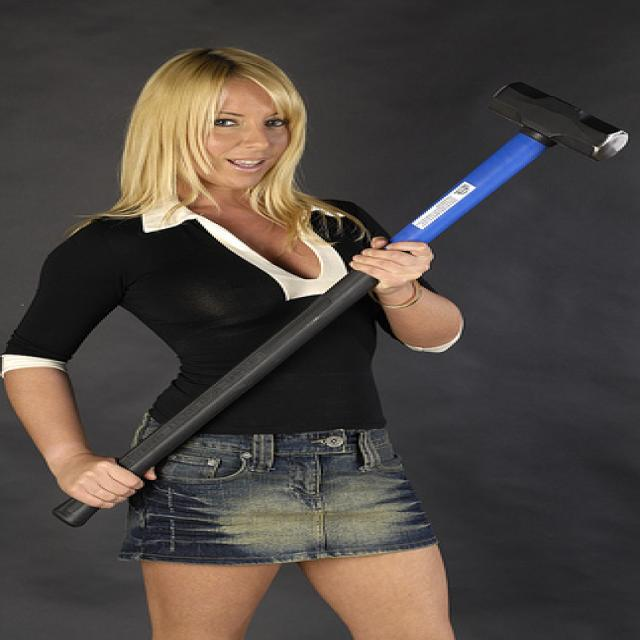hammer: (74, 78, 626, 500)
